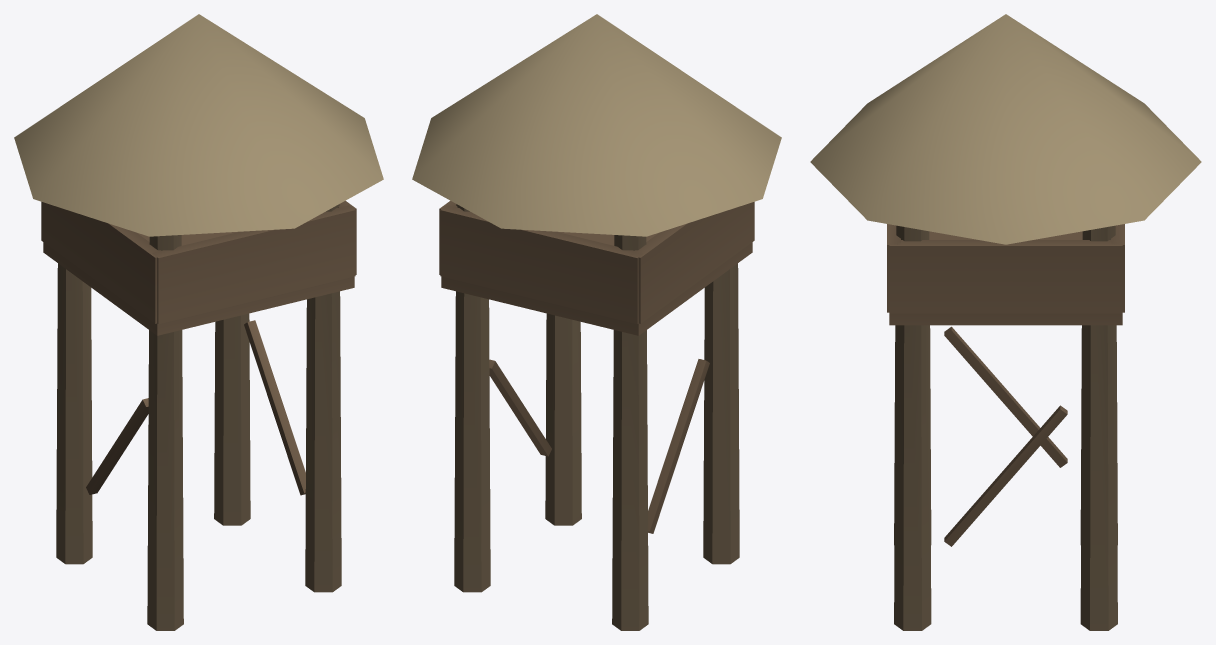
File: post_ancient.glb
3 views of the same model, side by side, from view 1: azimuth 30°, elevation 25°; view 2: azimuth 150°, elevation 25°; view 3: azimuth 270°, elevation 25° (orthographic). The views are drawn at different scales.
Parts seen in each view (by area): view 1: Body; view 2: Body; view 3: Body.
Part boxes in pixels (<box>): Body: <box>14,14,383,630</box>; Body: <box>412,14,781,630</box>; Body: <box>810,14,1201,630</box>.
Size of the model in its own units: 0.84 by 1.35 by 0.84.
